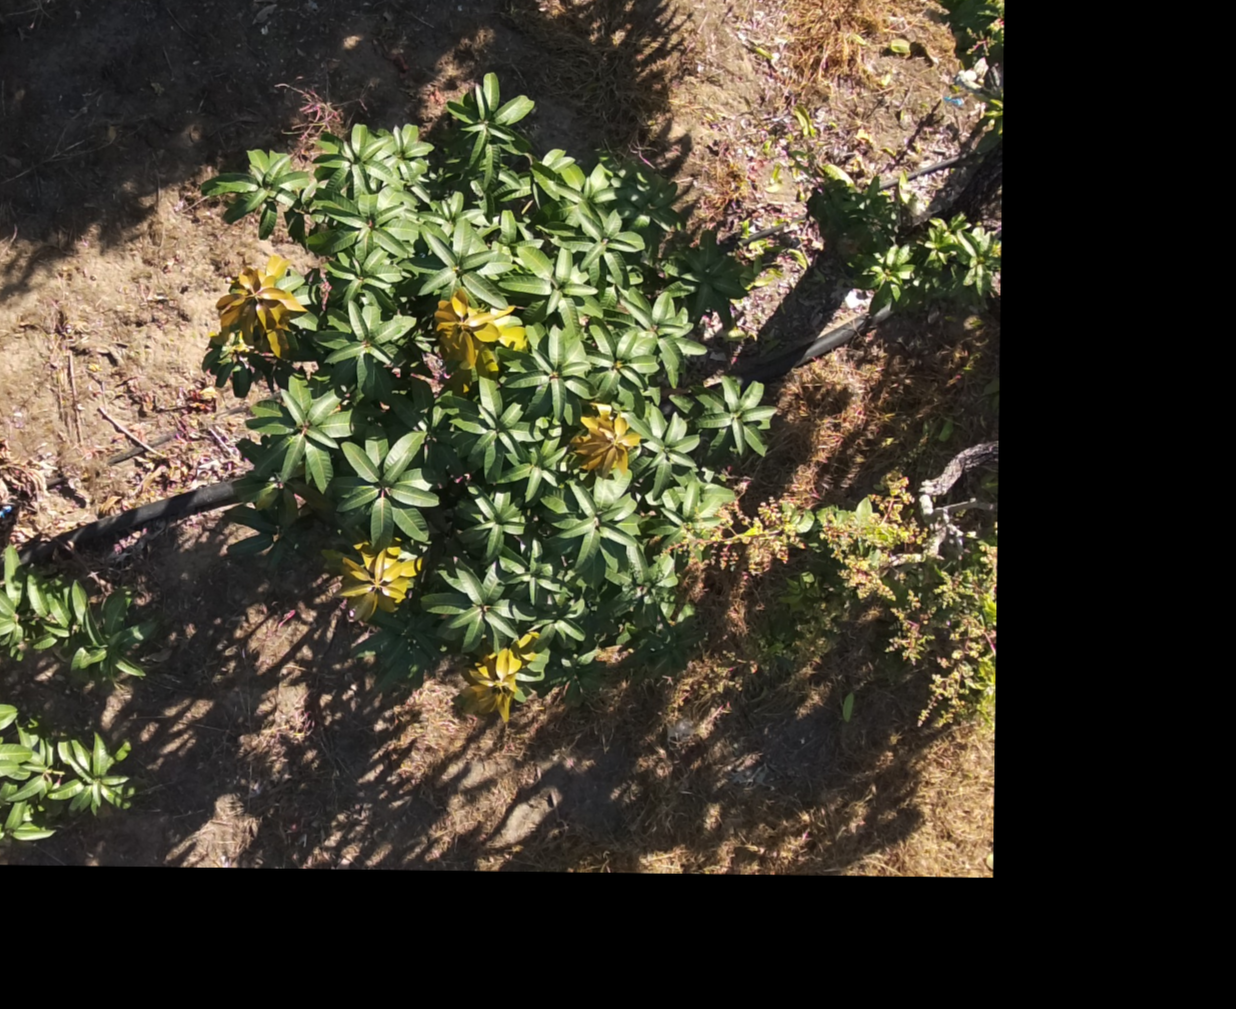flowers: (816, 477, 938, 604), (669, 501, 816, 603), (924, 539, 995, 723), (888, 590, 932, 662)
